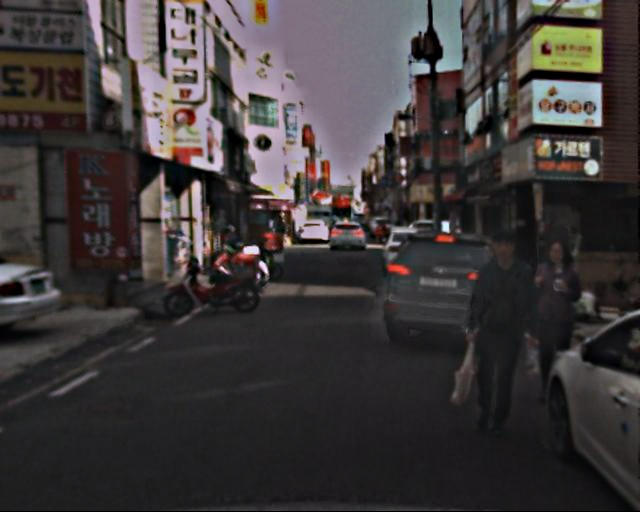person: (455, 233, 540, 437), (522, 240, 589, 402), (272, 215, 288, 255), (374, 224, 390, 245)
